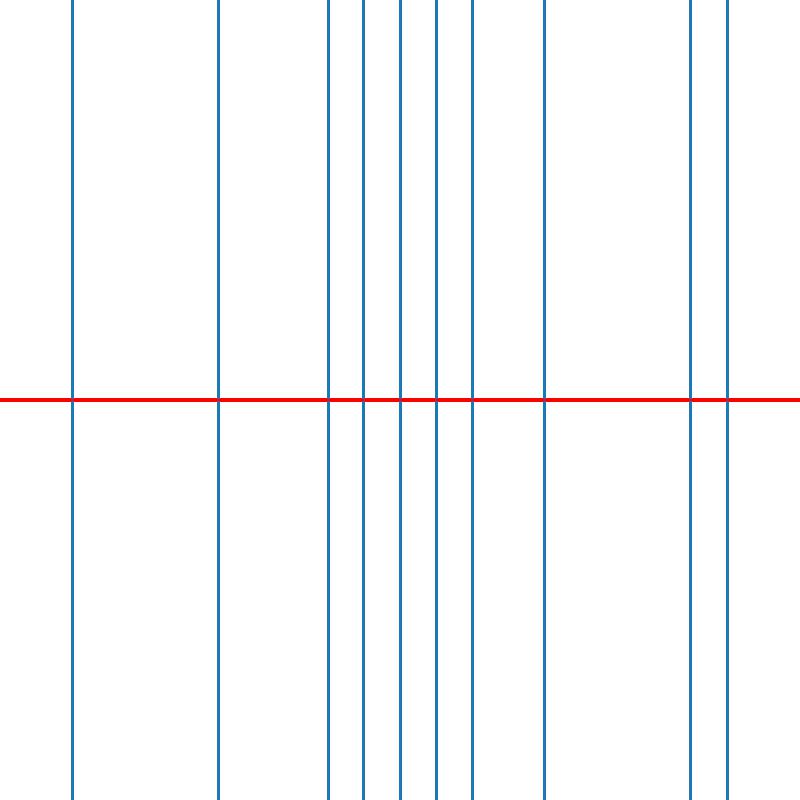root: (541, 396, 549, 404), (432, 396, 440, 404), (323, 396, 330, 404), (723, 396, 730, 404), (396, 396, 403, 404), (469, 396, 476, 404), (687, 396, 694, 404), (214, 396, 221, 404), (360, 396, 367, 404), (69, 396, 76, 404)
